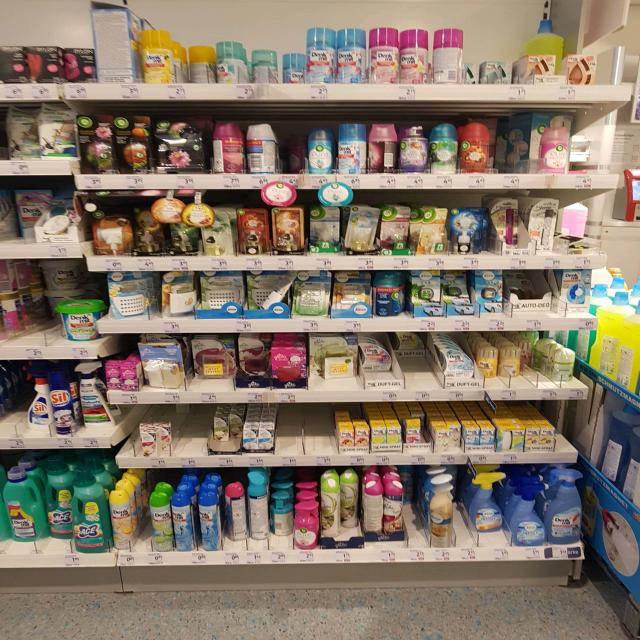unorganised: (2, 466, 35, 555), (40, 469, 71, 553), (186, 338, 235, 390), (476, 469, 507, 547), (249, 45, 305, 85), (26, 260, 84, 297), (482, 342, 537, 379), (431, 28, 465, 84), (493, 120, 528, 172), (248, 274, 293, 314), (212, 122, 245, 175), (222, 487, 248, 551), (368, 120, 398, 175), (9, 188, 38, 240), (246, 123, 275, 174), (181, 43, 216, 84), (216, 42, 247, 87), (337, 478, 359, 539), (247, 486, 268, 546), (270, 488, 291, 546), (363, 479, 383, 538), (506, 273, 546, 299), (396, 335, 428, 364), (483, 59, 517, 85), (400, 419, 431, 447)
